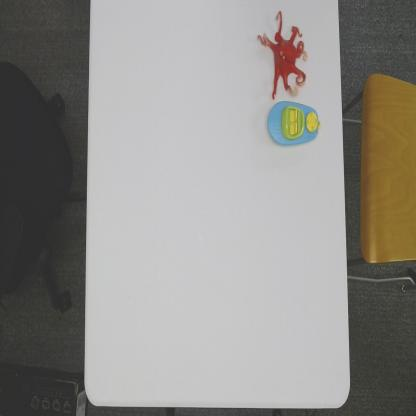Boat: (266, 100, 321, 148)
Octopus: (256, 9, 308, 101)
